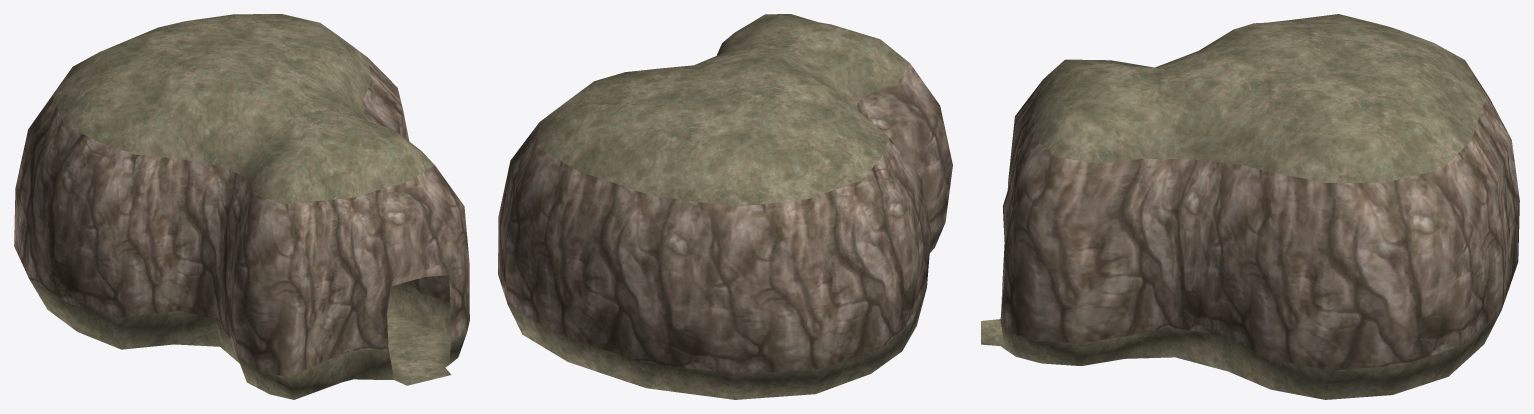
The model's file is EKH_GROTTO_PS_GR_SIDEROOM_4837__GX.fbx.
The picture shows the model from 3 angles, left to right: view 1: azimuth 30°, elevation 25°; view 2: azimuth 150°, elevation 25°; view 3: azimuth 270°, elevation 25°; orthographic projection. The views are drawn at different scales.
Visible parts, largest first — view 1: EKH_GROTTO_PS_GR_SIDEROOM_4837__GX; view 2: EKH_GROTTO_PS_GR_SIDEROOM_4837__GX; view 3: EKH_GROTTO_PS_GR_SIDEROOM_4837__GX.
Part boxes in pixels (<box>): EKH_GROTTO_PS_GR_SIDEROOM_4837__GX: <box>14,14,469,399</box>; EKH_GROTTO_PS_GR_SIDEROOM_4837__GX: <box>498,14,952,399</box>; EKH_GROTTO_PS_GR_SIDEROOM_4837__GX: <box>981,14,1519,399</box>.
Bounding box in the file's own units: 98359 × 59951 × 114522.
2 materials, 2 textured.
